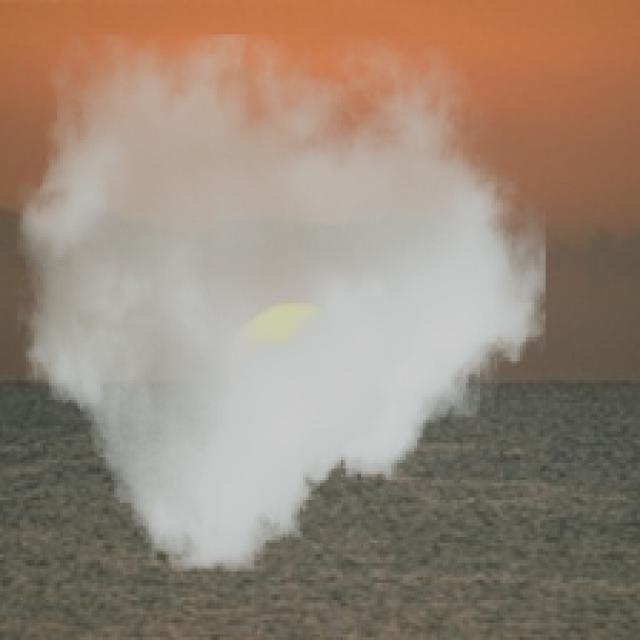smoke: (17, 34, 546, 572)
